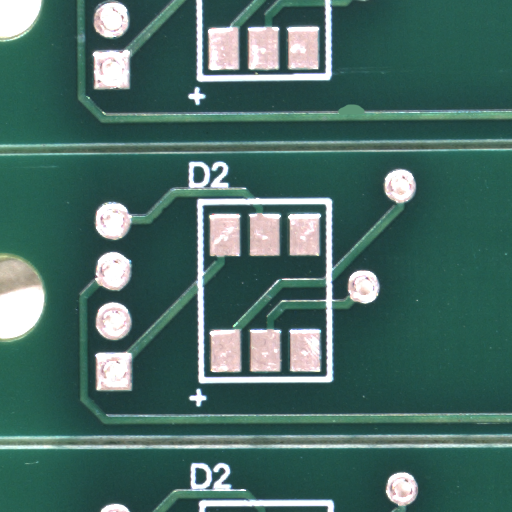Spur: (350, 109, 381, 120)
